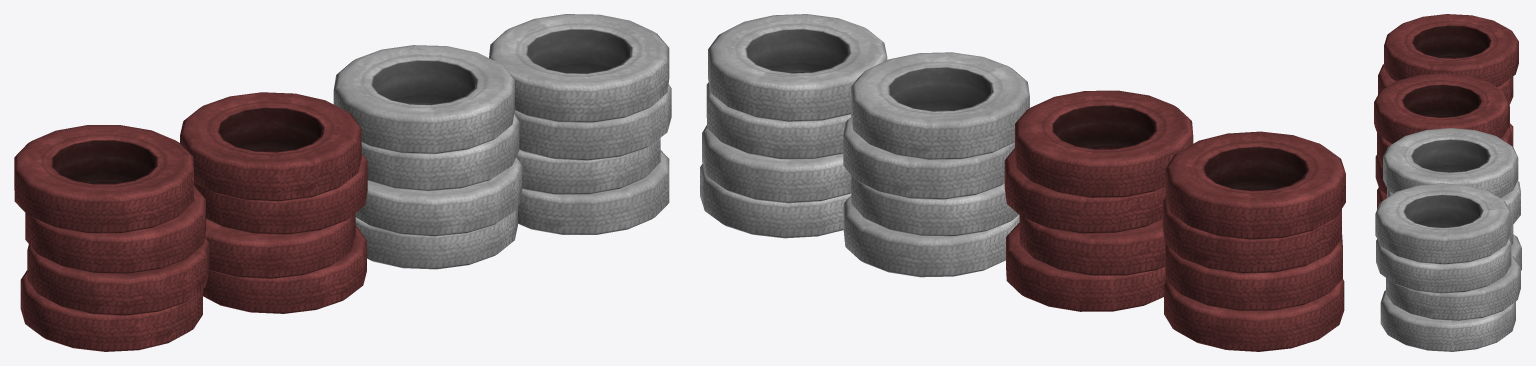
File: Tyrewall.fbx
3 renders of one model, left to right at view 1: azimuth 30°, elevation 25°; view 2: azimuth 150°, elevation 25°; view 3: azimuth 270°, elevation 25°, orthographic. The views are drawn at different scales.
Parts seen in each view (by area): view 1: Tyrewall; view 2: Tyrewall; view 3: Tyrewall.
Boxes of the visible parts, left/top/right/bottom form: Tyrewall: left=14, top=14, right=671, bottom=351; Tyrewall: left=700, top=14, right=1345, bottom=351; Tyrewall: left=1374, top=14, right=1521, bottom=351.
Size of the model in its own units: 403 by 97.15 by 110.
